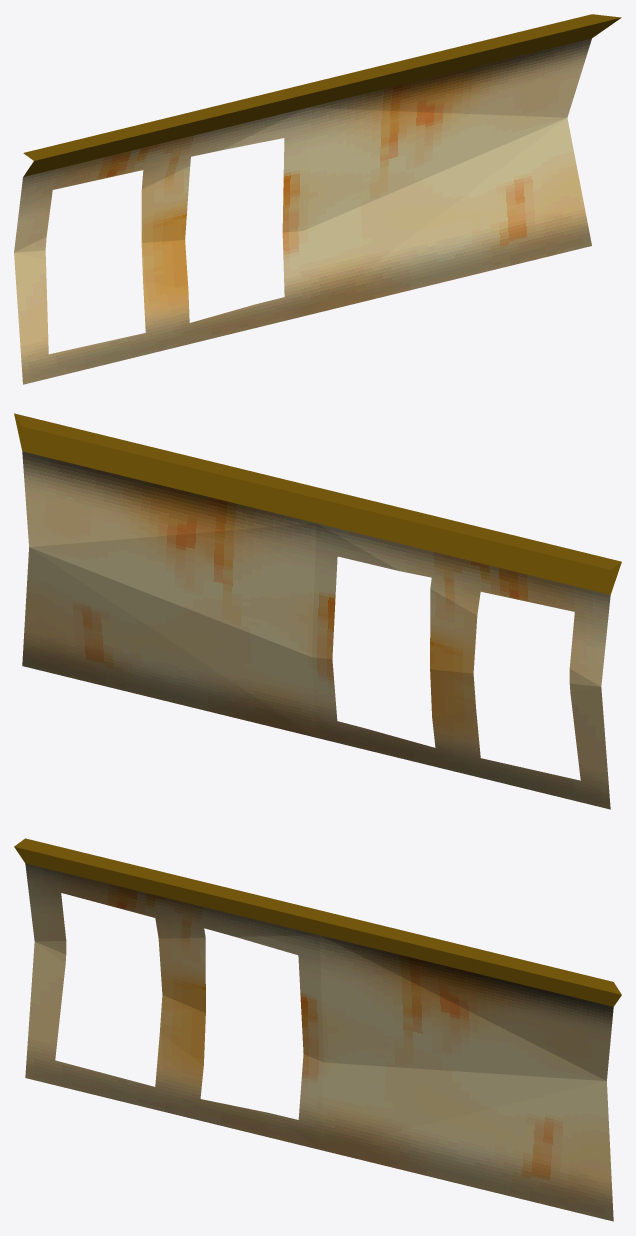
File: W_A2r_xxoo_1246.glb
3 views of the same model, one above another, from view 1: azimuth 30°, elevation 25°; view 2: azimuth 150°, elevation 25°; view 3: azimuth 330°, elevation 25° (orthographic). The views are drawn at different scales.
Visible parts, largest first — view 1: polySurfaceShape1271, polySurfaceShape1273; view 2: polySurfaceShape1271, polySurfaceShape1273; view 3: polySurfaceShape1271, polySurfaceShape1273.
Part boxes in pixels (x1,y1,x2,y2): polySurfaceShape1271: (14, 38, 591, 384); polySurfaceShape1273: (23, 14, 621, 176); polySurfaceShape1271: (22, 451, 610, 809); polySurfaceShape1273: (14, 413, 621, 594); polySurfaceShape1271: (25, 863, 613, 1221); polySurfaceShape1273: (14, 838, 621, 1006).
Bounding box in the file's own units: 1.03 × 0.3891 × 0.0607.
2 materials, 1 textured.
